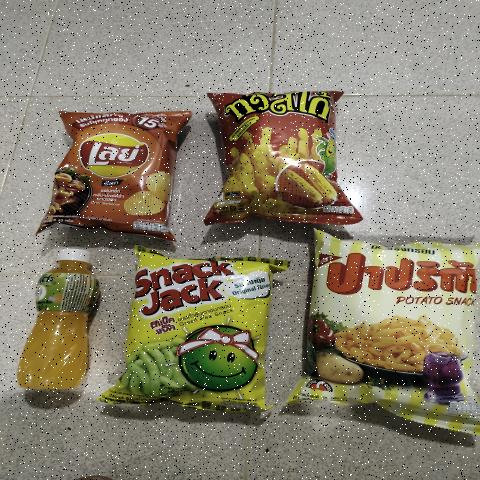paprika: (309, 244, 473, 406)
snack_jack: (136, 260, 264, 408)
twisco: (228, 91, 338, 217)
